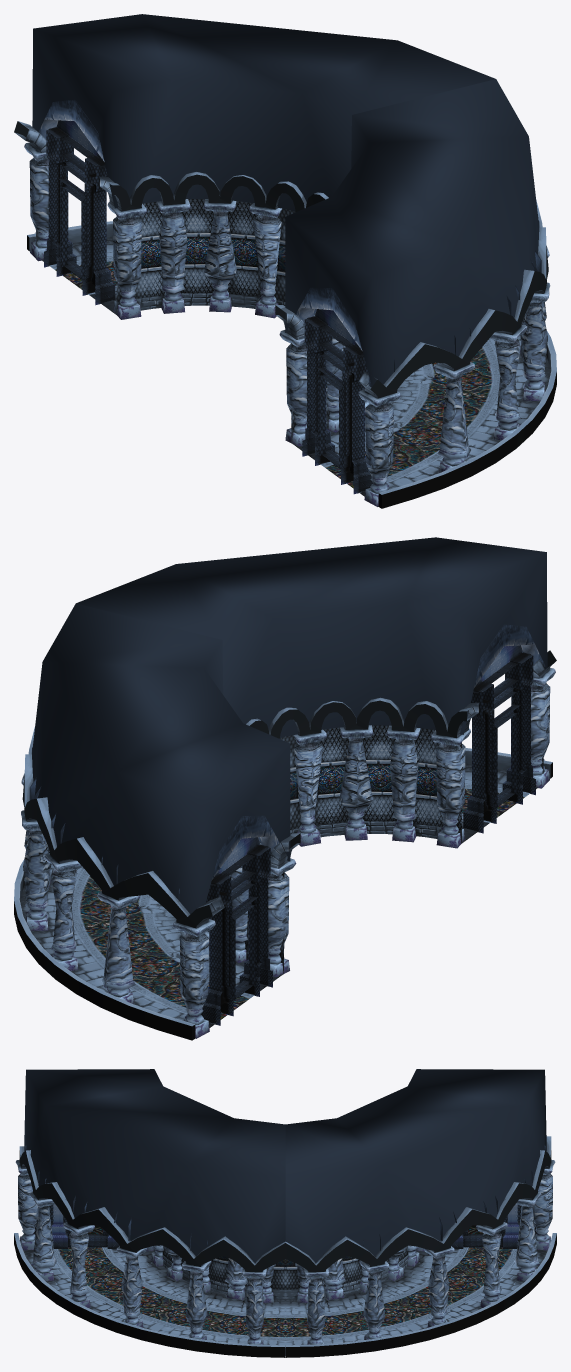
File: BG_Hall_Stage_Church_141104.fbx
3 renders of one model, top to bottom at view 1: azimuth 30°, elevation 25°; view 2: azimuth 150°, elevation 25°; view 3: azimuth 270°, elevation 25°, orthographic. The views are drawn at different scales.
Visible parts, largest first — view 1: BG_Hall_Stage_Church_Dumy, BG_Hall_Stage_Church_Columm, BG_Hall_Stage_Church_Wall, BG_Hall_Stage_Church_Door, BG_Hall_Stage_Church_Floor, BG_Hall_Stage_Church_Celling; view 2: BG_Hall_Stage_Church_Dumy, BG_Hall_Stage_Church_Columm, BG_Hall_Stage_Church_Wall, BG_Hall_Stage_Church_Door, BG_Hall_Stage_Church_Floor, BG_Hall_Stage_Church_Celling; view 3: BG_Hall_Stage_Church_Dumy, BG_Hall_Stage_Church_Floor, BG_Hall_Stage_Church_Columm, BG_Hall_Stage_Church_Wall, BG_Hall_Stage_Church_Door, BG_Hall_Stage_Church_Celling.
Boxes of the visible parts, x1,y1,x2,y2 form: BG_Hall_Stage_Church_Dumy: [32, 14, 539, 394]; BG_Hall_Stage_Church_Columm: [24, 142, 550, 506]; BG_Hall_Stage_Church_Wall: [14, 121, 548, 442]; BG_Hall_Stage_Church_Door: [44, 120, 372, 494]; BG_Hall_Stage_Church_Floor: [27, 221, 556, 508]; BG_Hall_Stage_Church_Celling: [38, 99, 541, 387]; BG_Hall_Stage_Church_Dumy: [32, 537, 547, 924]; BG_Hall_Stage_Church_Columm: [21, 668, 555, 1038]; BG_Hall_Stage_Church_Wall: [22, 650, 556, 973]; BG_Hall_Stage_Church_Door: [201, 645, 535, 1025]; BG_Hall_Stage_Church_Floor: [14, 748, 552, 1040]; BG_Hall_Stage_Church_Celling: [29, 624, 545, 901]; BG_Hall_Stage_Church_Dumy: [24, 1069, 546, 1262]; BG_Hall_Stage_Church_Floor: [14, 1233, 556, 1357]; BG_Hall_Stage_Church_Columm: [15, 1159, 555, 1344]; BG_Hall_Stage_Church_Wall: [19, 1136, 551, 1299]; BG_Hall_Stage_Church_Door: [34, 1204, 536, 1248]; BG_Hall_Stage_Church_Celling: [25, 1145, 545, 1250].
Bounding box in the file's own units: 105 × 71.82 × 201.
